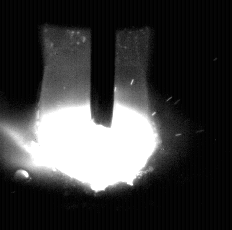arame: (91, 0, 115, 127)
poca: (22, 0, 159, 230)
